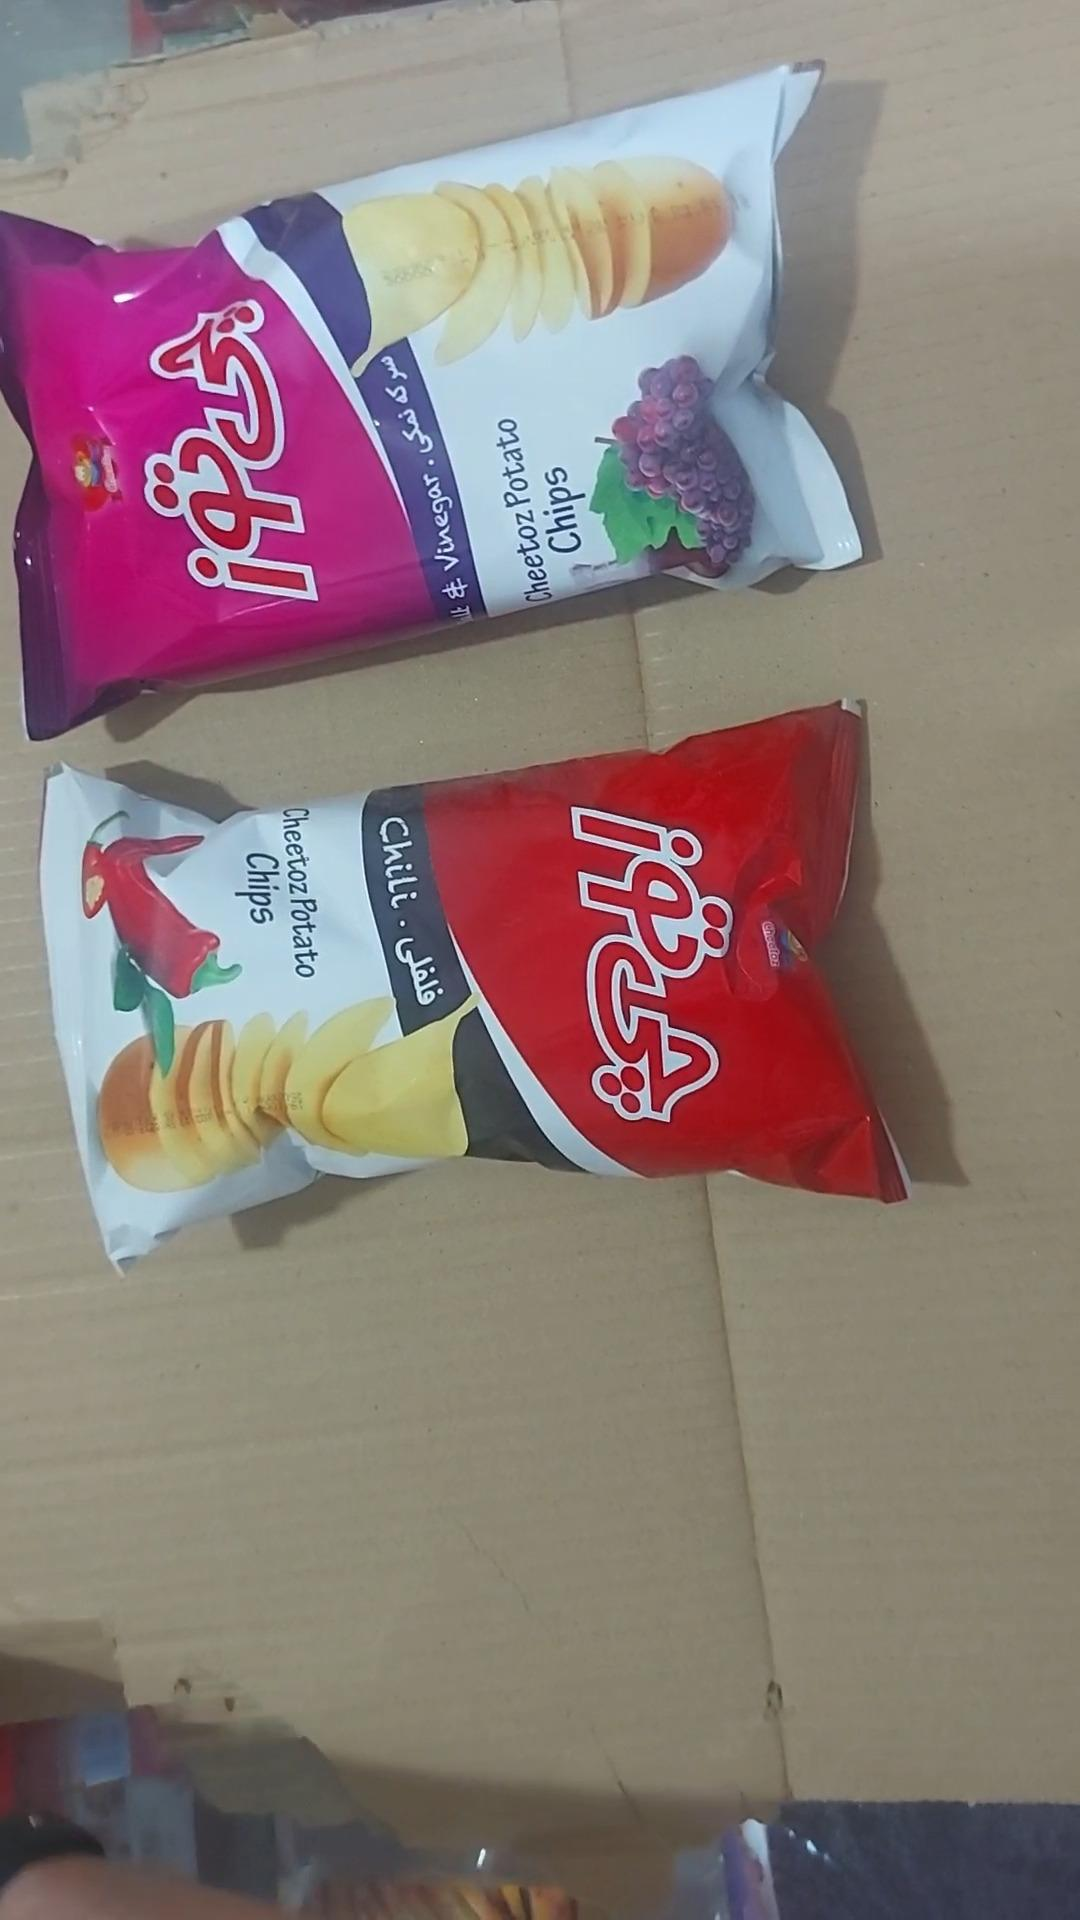Cheetoz chili chips: (38, 704, 913, 1276)
Cheetoz vinegar chips: (0, 65, 876, 742)
